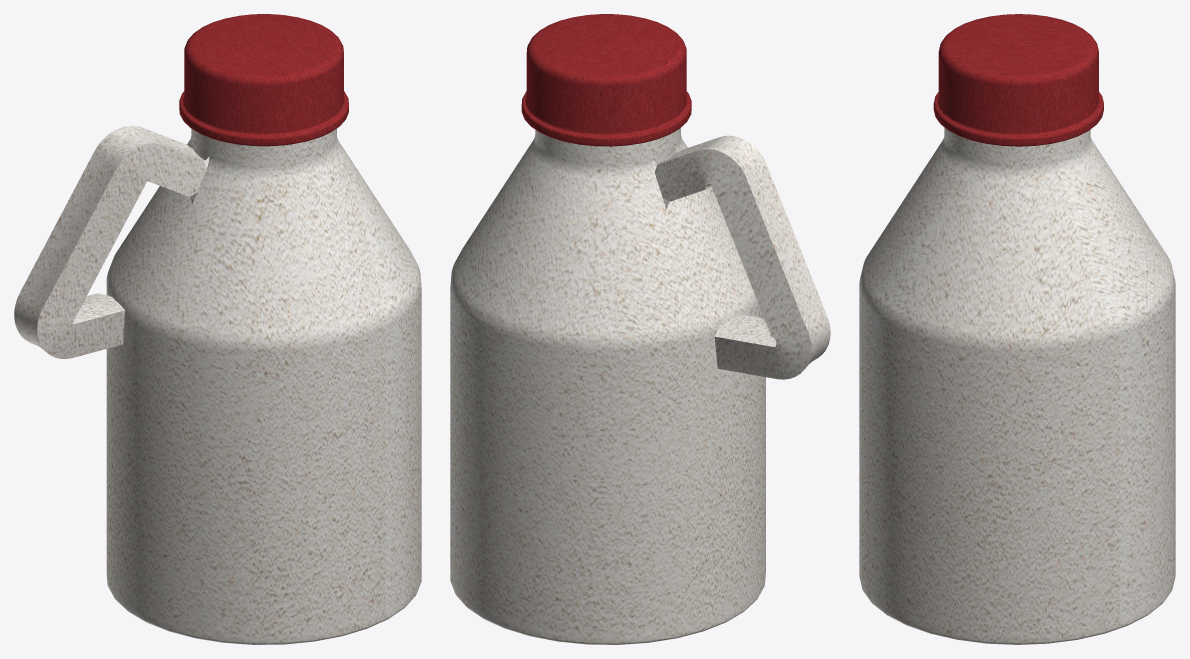
The model's file is sanitizer_container.fbx.
The picture shows the model from 3 angles, left to right: view 1: azimuth 30°, elevation 25°; view 2: azimuth 150°, elevation 25°; view 3: azimuth 270°, elevation 25°; orthographic projection.
Parts seen in each view (by area): view 1: Cylinder, Cylinder.001; view 2: Cylinder, Cylinder.001; view 3: Cylinder, Cylinder.001.
Part boxes in pixels (box(x1,y1,x2,y2)): Cylinder: box(14, 125, 421, 644); Cylinder.001: box(179, 14, 348, 146); Cylinder: box(450, 128, 830, 644); Cylinder.001: box(521, 14, 691, 146); Cylinder: box(859, 127, 1175, 644); Cylinder.001: box(933, 14, 1103, 146).
Bounding box in the file's own units: 26.56 × 37.31 × 20.
Materials: 2 (2 with a texture image).
